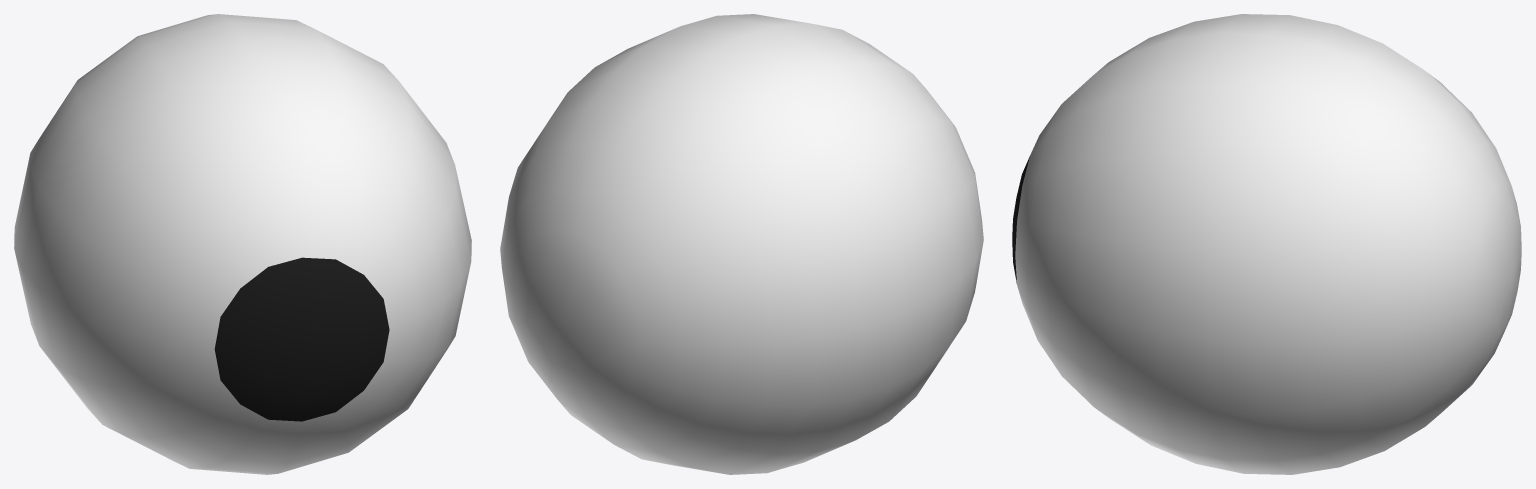
Rendered from Eye2.fbx.
The picture shows the model from 3 angles, left to right: view 1: azimuth 30°, elevation 25°; view 2: azimuth 150°, elevation 25°; view 3: azimuth 270°, elevation 25°; orthographic projection.
Parts seen in each view (by area): view 1: Sphere.010; view 2: Sphere.010; view 3: Sphere.010.
Boxes of the visible parts, x1,y1,x2,y2 form: Sphere.010: [14, 14, 471, 474]; Sphere.010: [500, 14, 983, 474]; Sphere.010: [1012, 14, 1521, 474].
Size of the model in its own units: 0.2997 by 0.2988 by 0.3294.
